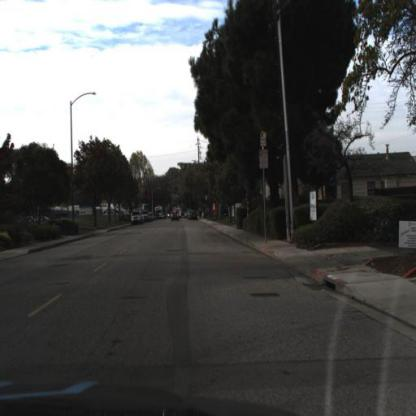car: (129, 208, 145, 229), (169, 208, 182, 226)
